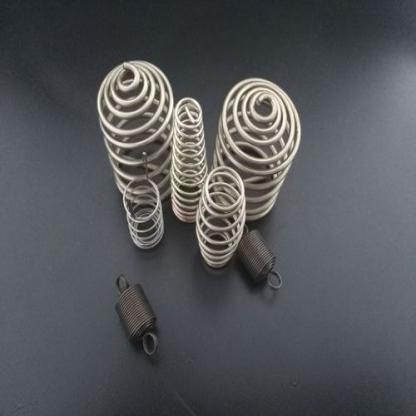FOD: (211, 74, 303, 224), (95, 59, 176, 202), (195, 165, 246, 270), (169, 95, 208, 224), (121, 148, 164, 251), (112, 272, 161, 358), (237, 224, 283, 293)
